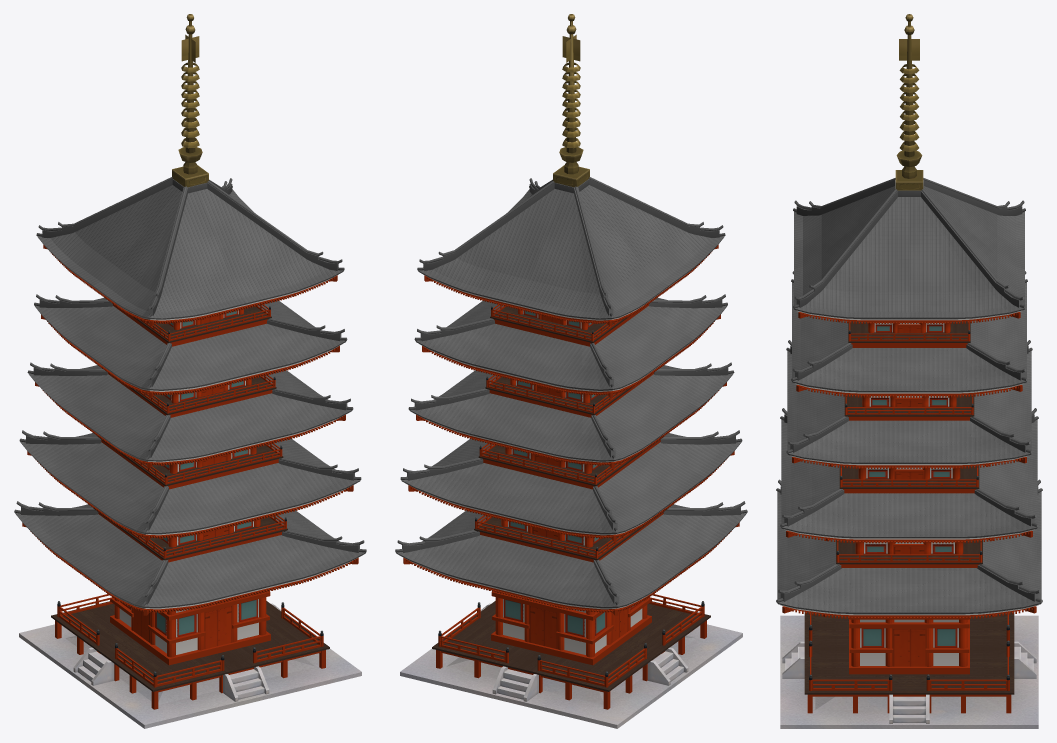
The model's file is 220620gojyu.fbx.
The picture shows the model from 3 angles, left to right: view 1: azimuth 30°, elevation 25°; view 2: azimuth 150°, elevation 25°; view 3: azimuth 270°, elevation 25°; orthographic projection. The views are drawn at different scales.
Visible parts, largest first — view 1: kawara [921460], koran [921453], kidan [921454], tou [921459], base [921456], taruki [921452], window [921458], kumoto [921468], sourin [921466], sokutyu [921467], roof_side [921461], kioi [921463] (+1 smaller); view 2: kawara [921460], koran [921453], kidan [921454], tou [921459], base [921456], taruki [921452], window [921458], kumoto [921468], sourin [921466], sokutyu [921467], roof_side [921461], kioi [921463] (+1 smaller); view 3: kawara [921460], koran [921453], kidan [921454], tou [921459], base [921456], window [921458], kumoto [921468], sourin [921466], sokutyu [921467], kioi [921463], taruki [921452], roof_side [921461] (+2 smaller).
Part boxes in pixels (x1,y1,x2,y2): kawara [921460]: (15, 185, 365, 608); koran [921453]: (51, 304, 329, 709); kidan [921454]: (19, 603, 361, 728); tou [921459]: (14, 177, 366, 606); base [921456]: (93, 306, 287, 560); taruki [921452]: (30, 251, 355, 612); window [921458]: (120, 310, 257, 648); kumoto [921468]: (110, 315, 270, 665); sourin [921466]: (172, 14, 208, 187); sokutyu [921467]: (114, 309, 266, 657); roof_side [921461]: (54, 269, 356, 609); kioi [921463]: (118, 282, 344, 610); kawara [921460]: (396, 185, 746, 608); koran [921453]: (432, 304, 710, 709); kidan [921454]: (400, 603, 742, 728); tou [921459]: (395, 177, 747, 606); base [921456]: (474, 306, 668, 560); taruki [921452]: (406, 251, 731, 612); window [921458]: (504, 310, 641, 648); kumoto [921468]: (491, 315, 651, 665); sourin [921466]: (553, 14, 589, 187); sokutyu [921467]: (495, 309, 647, 657); roof_side [921461]: (405, 269, 707, 609); kioi [921463]: (417, 282, 643, 610); kawara [921460]: (777, 186, 1041, 614); koran [921453]: (804, 321, 1014, 713); kidan [921454]: (780, 615, 1038, 728); tou [921459]: (776, 178, 1042, 602); base [921456]: (836, 321, 982, 564); window [921458]: (861, 324, 957, 666); kumoto [921468]: (823, 320, 995, 674); sourin [921466]: (895, 14, 923, 190); sokutyu [921467]: (851, 323, 967, 666); kioi [921463]: (788, 313, 1030, 616); taruki [921452]: (786, 313, 1032, 619); roof_side [921461]: (780, 310, 1038, 615).
Bounding box in the file's own units: 640 × 1747 × 640.
Materials: 15 (15 with a texture image).
